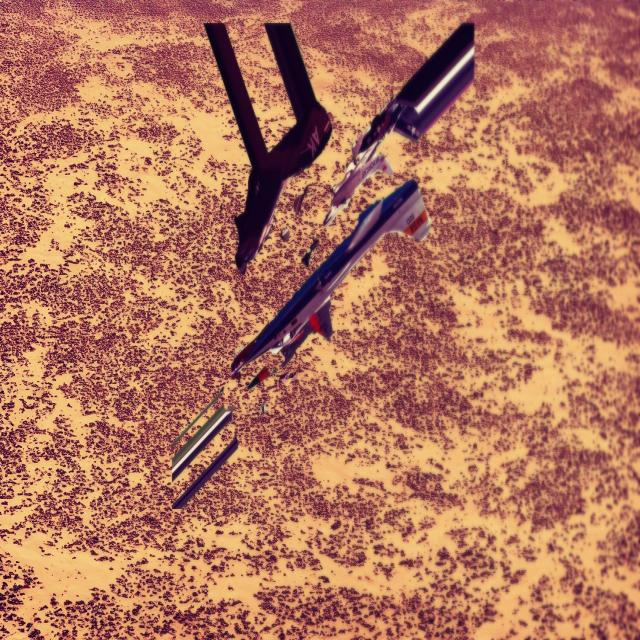airplane: (230, 177, 431, 381), (202, 19, 332, 274), (322, 20, 475, 226)
